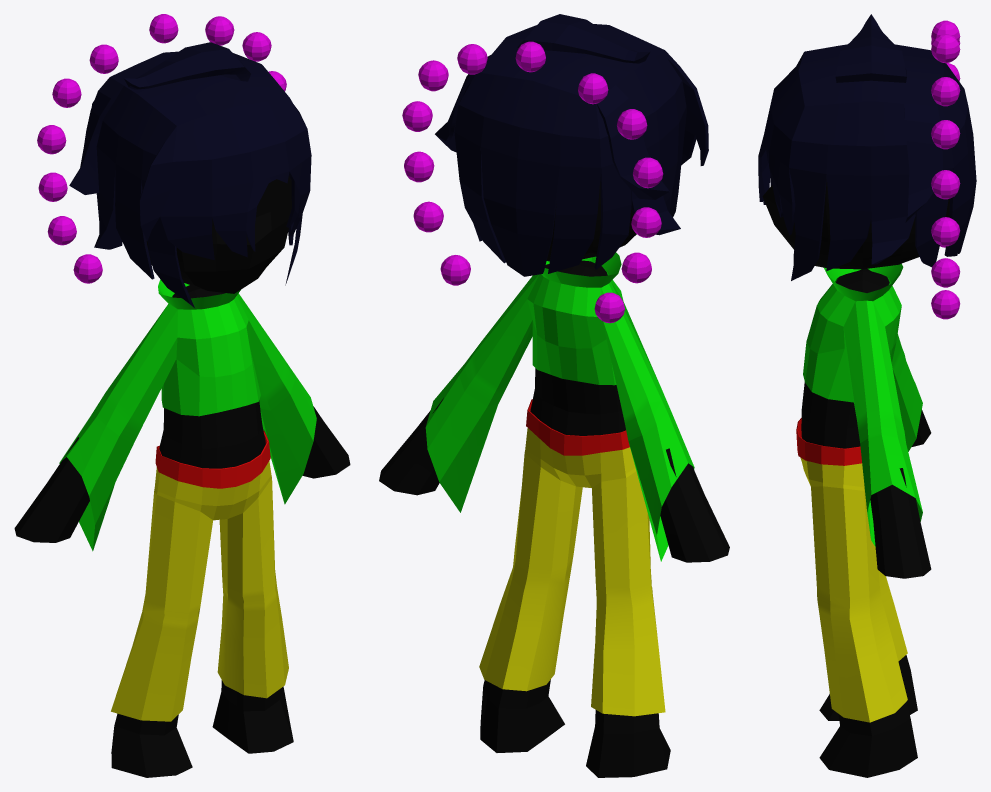
Rendered from SCHIZO.fbx.
3 views of the same model, side by side, from view 1: azimuth 30°, elevation 25°; view 2: azimuth 150°, elevation 25°; view 3: azimuth 270°, elevation 25° (orthographic). The views are drawn at different scales.
Parts seen in each view (by area): view 1: Pants1; view 2: Pants1; view 3: Pants1.
Part boxes in pixels (<box>): Pants1: <box>14,14,350,777</box>; Pants1: <box>379,14,729,777</box>; Pants1: <box>758,14,976,777</box>.
Size of the model in its own units: 215 by 434 by 123.
